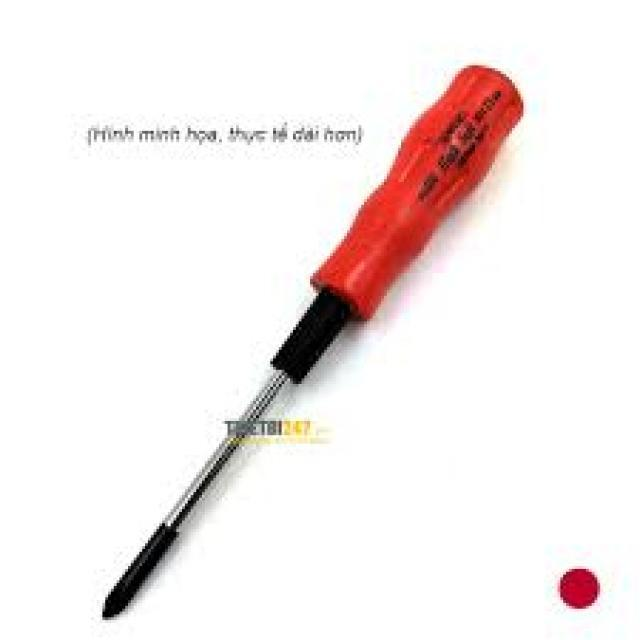screwdriver: (97, 62, 532, 624)
